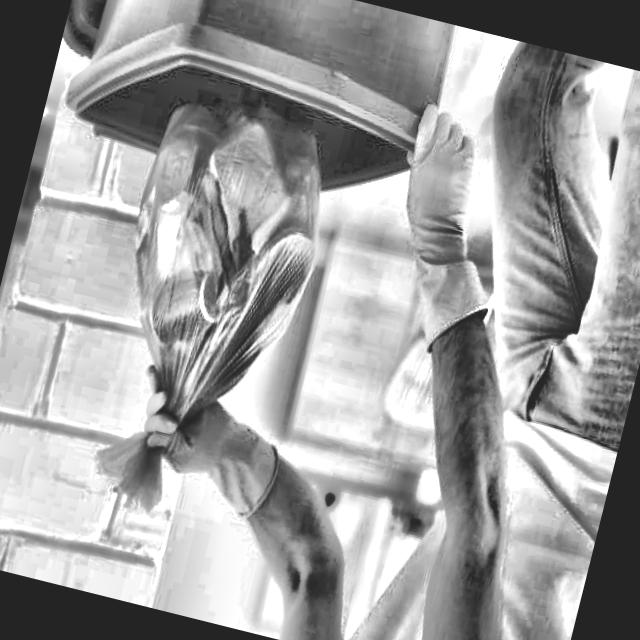Dustbin: (39, 0, 467, 217)
